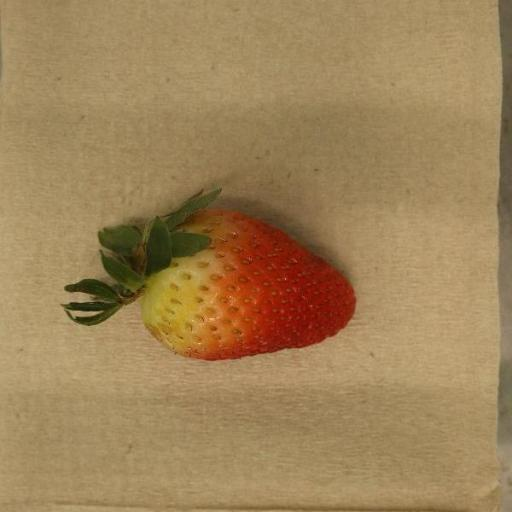Strawberry: (60, 189, 357, 361)
